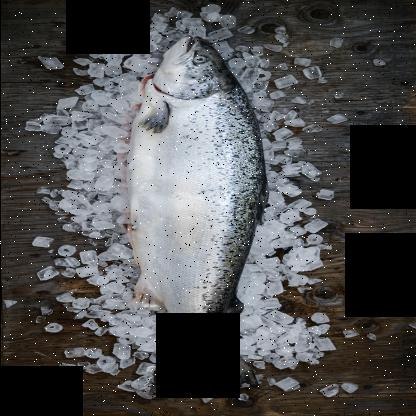fish: (119, 36, 266, 393)
